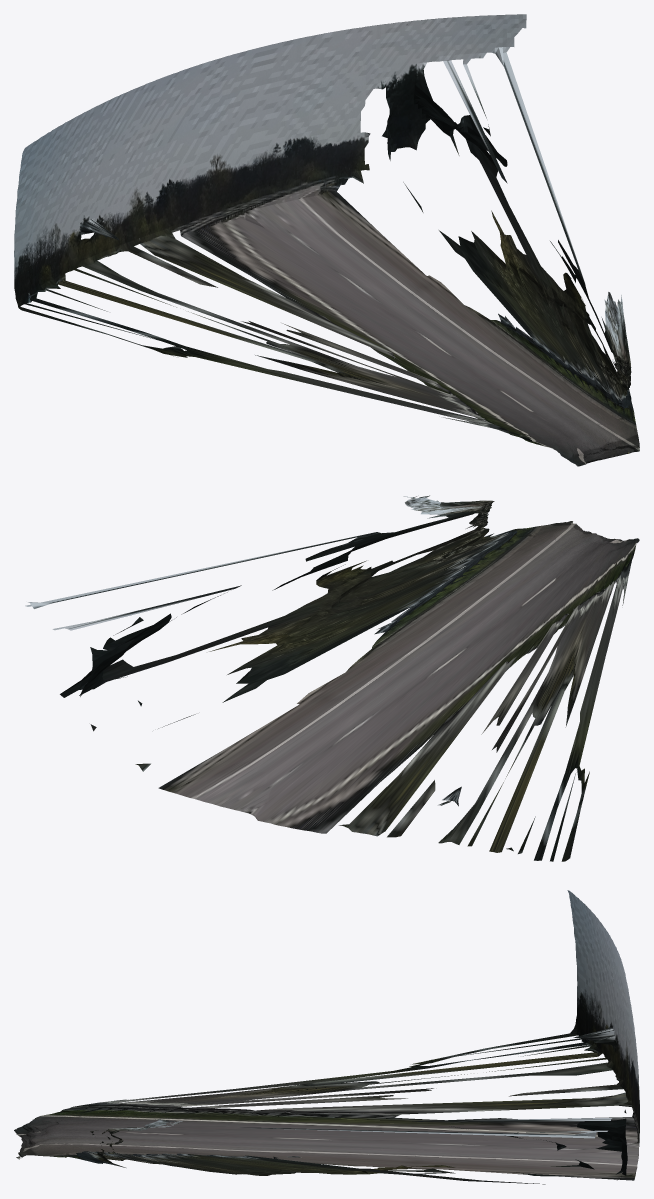
3 views of the same model, one above another, from view 1: azimuth 30°, elevation 25°; view 2: azimuth 150°, elevation 25°; view 3: azimuth 270°, elevation 25° (orthographic). The views are drawn at different scales.
Parts seen in each view (by area): view 1: defaultobject; view 2: defaultobject; view 3: defaultobject.
Boxes of the visible parts, left/top/right/bottom form: defaultobject: left=14, top=14, right=639, bottom=466; defaultobject: left=25, top=495, right=639, bottom=861; defaultobject: left=14, top=890, right=639, bottom=1184.
Size of the model in its own units: 38.03 by 12.31 by 44.69.
1 material, 1 textured.
